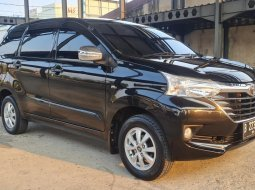mobil: (1, 7, 254, 178)
